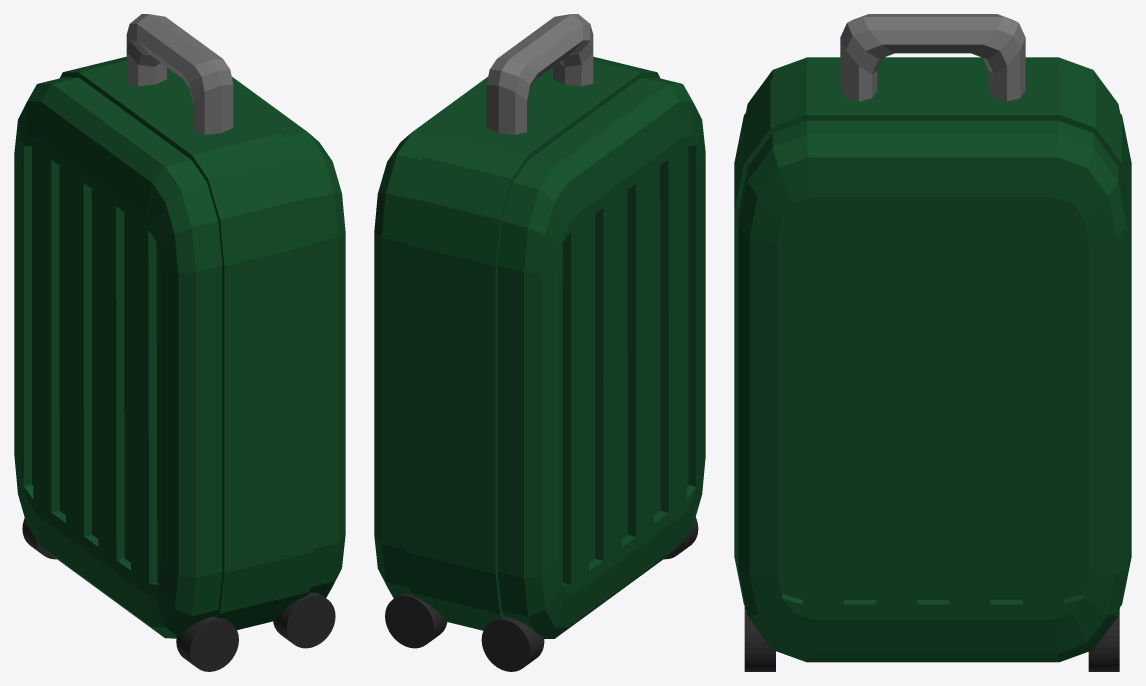
File: Luggage 3.fbx
3 views of the same model, side by side, from view 1: azimuth 30°, elevation 25°; view 2: azimuth 150°, elevation 25°; view 3: azimuth 270°, elevation 25° (orthographic). The views are drawn at different scales.
Parts seen in each view (by area): view 1: Cube.002, Torus.002, Cylinder.005, Cylinder.003; view 2: Cube.002, Torus.002, Cylinder.006, Cylinder.004; view 3: Cube.002, Torus.002, Cylinder.003, Cylinder.004.
Part boxes in pixels (box(x1,y1,x2,y2)): Cube.002: box(14, 56, 345, 638); Torus.002: box(126, 14, 233, 134); Cylinder.005: box(176, 616, 238, 671); Cylinder.003: box(273, 592, 335, 648); Cube.002: box(374, 56, 705, 638); Torus.002: box(486, 14, 593, 134); Cylinder.006: box(481, 617, 544, 671); Cylinder.004: box(385, 593, 447, 648); Cube.002: box(734, 57, 1131, 662); Torus.002: box(840, 14, 1025, 101); Cylinder.003: box(744, 609, 775, 671); Cylinder.004: box(1088, 610, 1119, 671).
Size of the model in its own units: 78.82 by 238 by 137.
